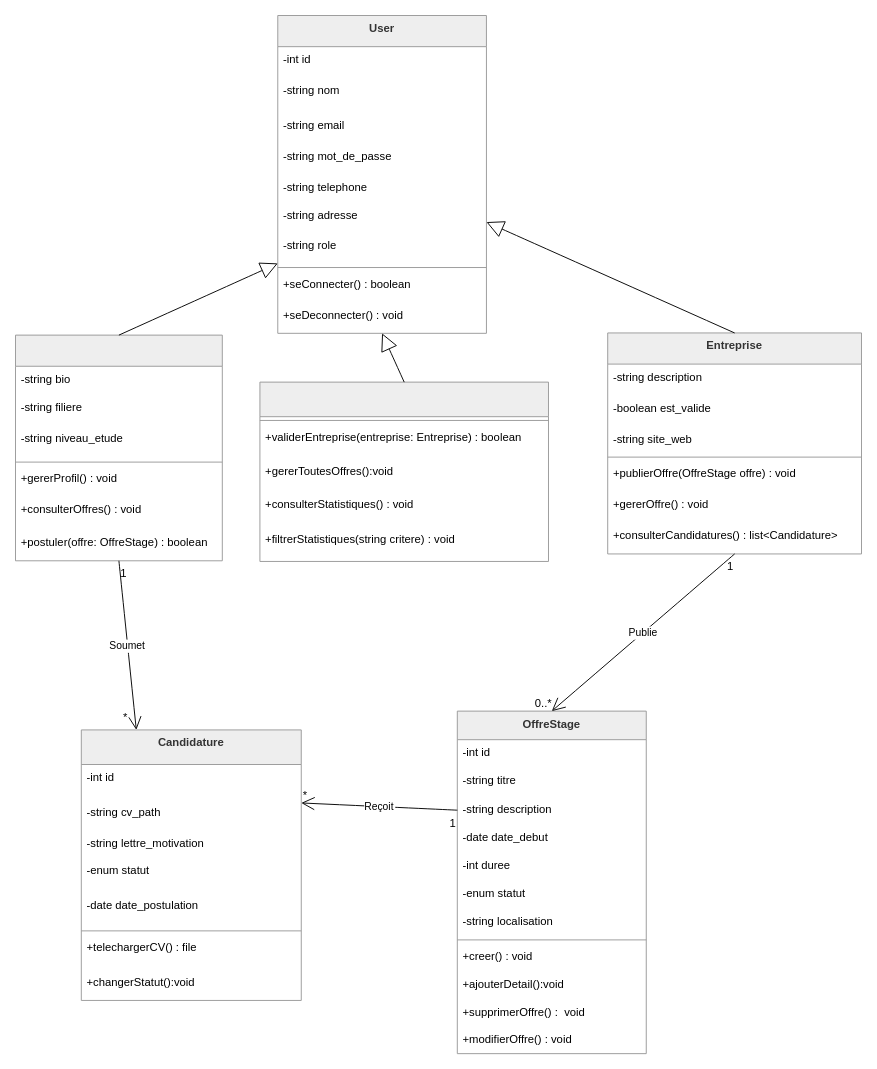
This 877x1069 diagram has some shape labels left out. Here are the shapes that lost their labels. From the top down, the box of each, then its label:
(15, 334, 222, 561): Etudiant
(259, 381, 548, 561): Admin
